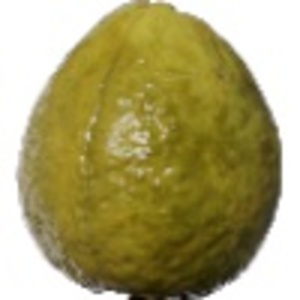goiaba: (9, 2, 291, 297)
